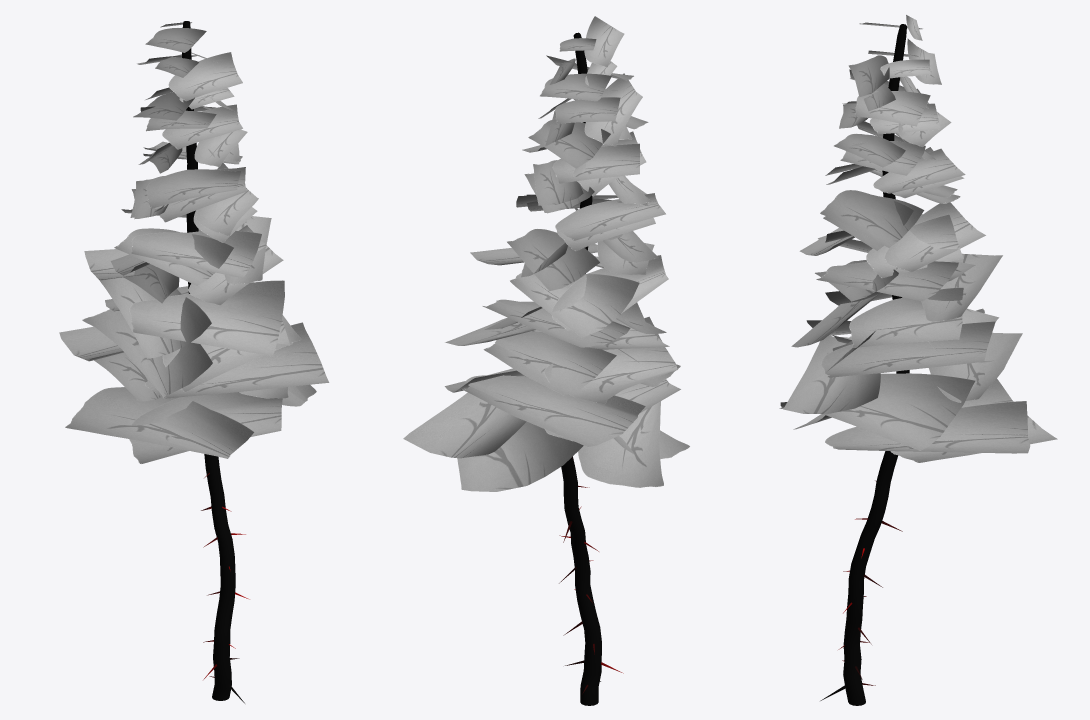
Rendered from M_Pine_5_14.fbx.
3 renders of one model, left to right at view 1: azimuth 30°, elevation 25°; view 2: azimuth 150°, elevation 25°; view 3: azimuth 270°, elevation 25°, orthographic. The views are drawn at different scales.
Parts seen in each view (by area): view 1: Mobile_Pine_14; view 2: Mobile_Pine_14; view 3: Mobile_Pine_14.
Part boxes in pixels (bbox=[...]): Mobile_Pine_14: bbox=[59, 21, 329, 703]; Mobile_Pine_14: bbox=[403, 16, 689, 705]; Mobile_Pine_14: bbox=[779, 15, 1057, 705].
Size of the model in its own units: 2054 by 4740 by 2044.
